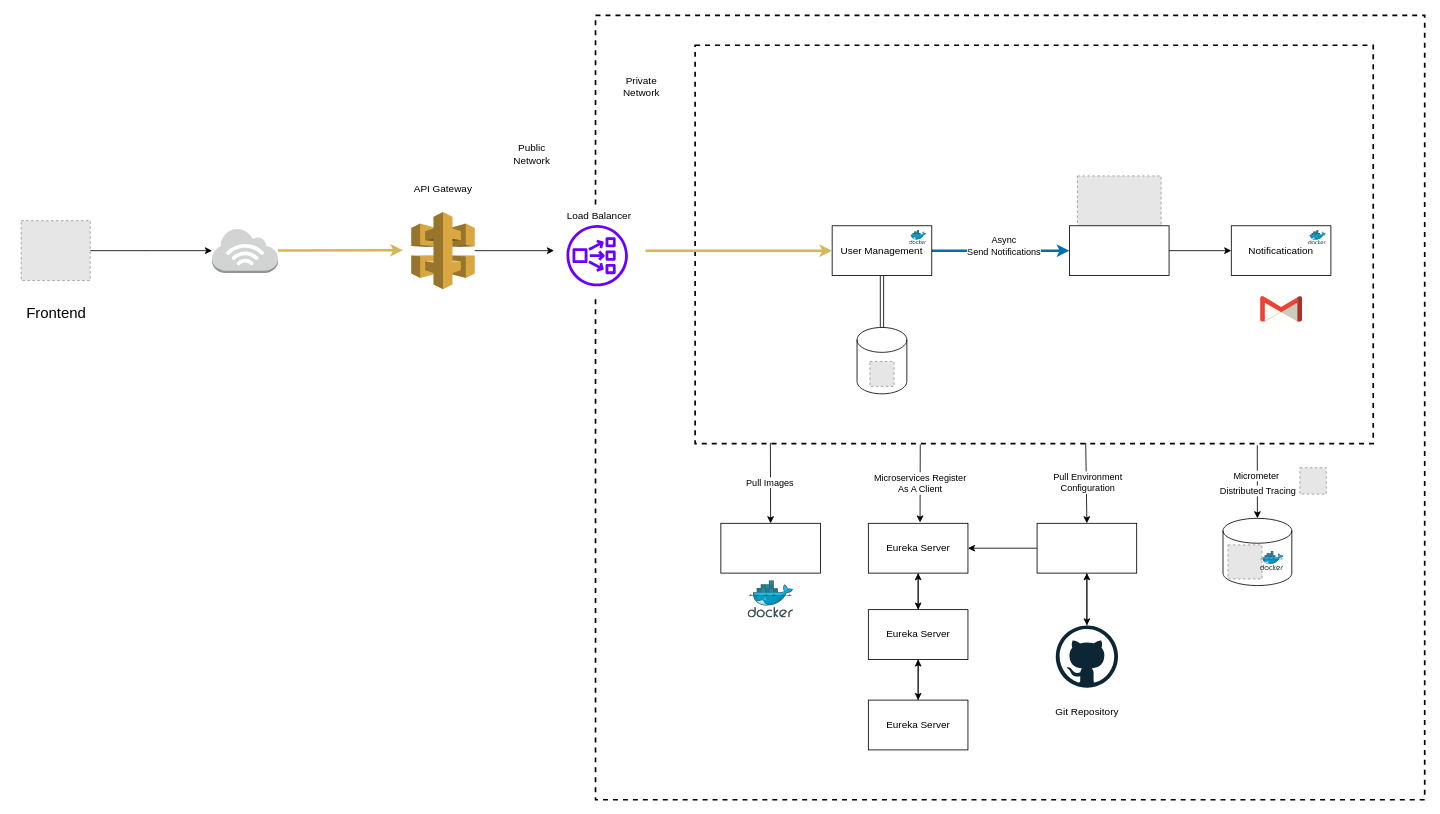
Image size: 1440x814. Some labels were removed from this diagram. Grey dashed boxes stand in for pictures. The centre of each missing label's shape, as x and y in pixels:
"config server" goes at (1086,547).
"Message Queue" goes at (1119,250).
"Private Docker Registry" goes at (770,547).
